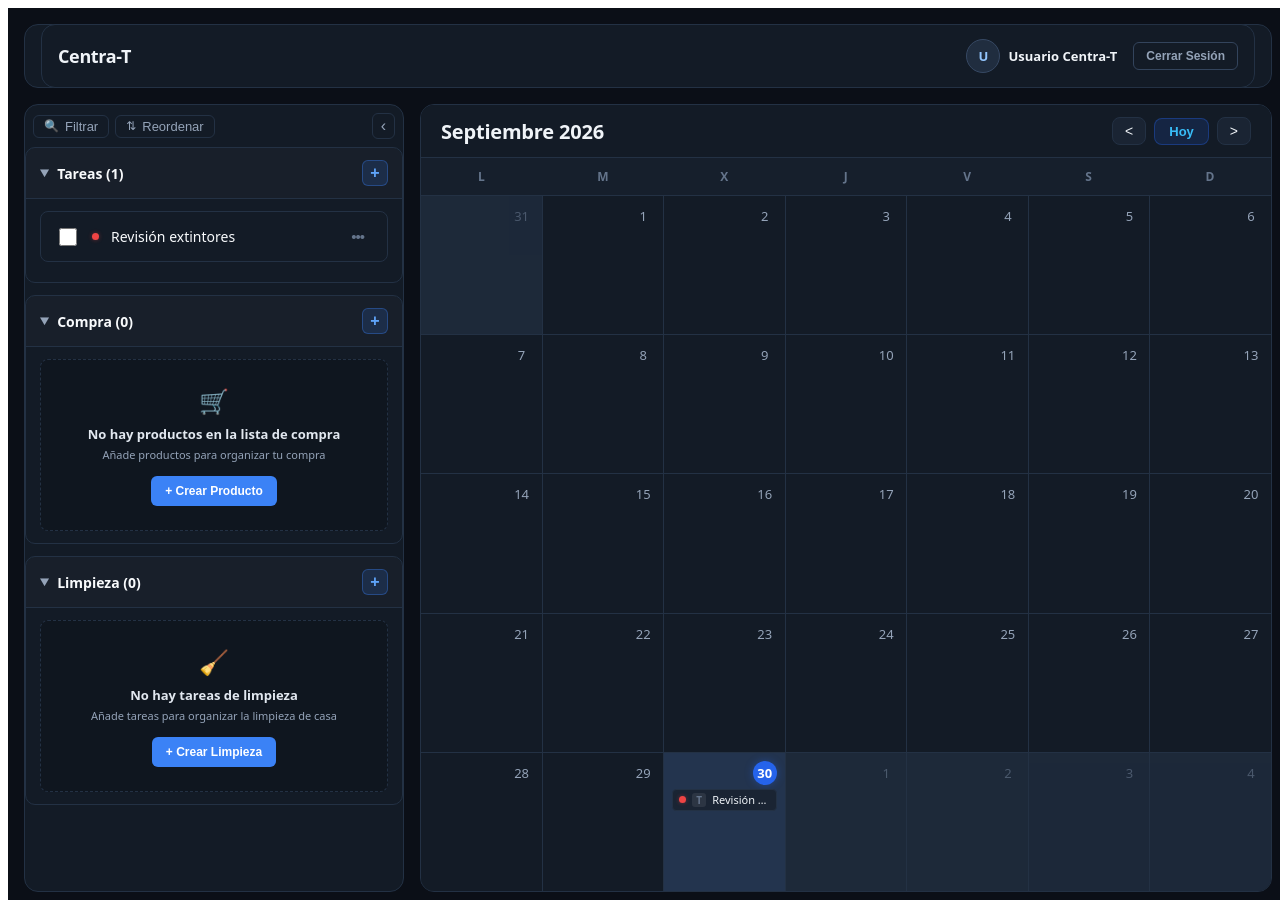
Test: App Root Integration - Filtrado Reactivo y Reordenación en Caliente (RV-A06) › Desasignación por Clic Derecho y Retorno al Hub (Caso Forense VV-007) › [VV-007]: Presionar Escape o hacer clic fuera cierra el menú sin desasignar la pastilla
Right-click the button with test id "calendar-pill-task-unschedule-1": x=724, y=800 [672,789,777,811]
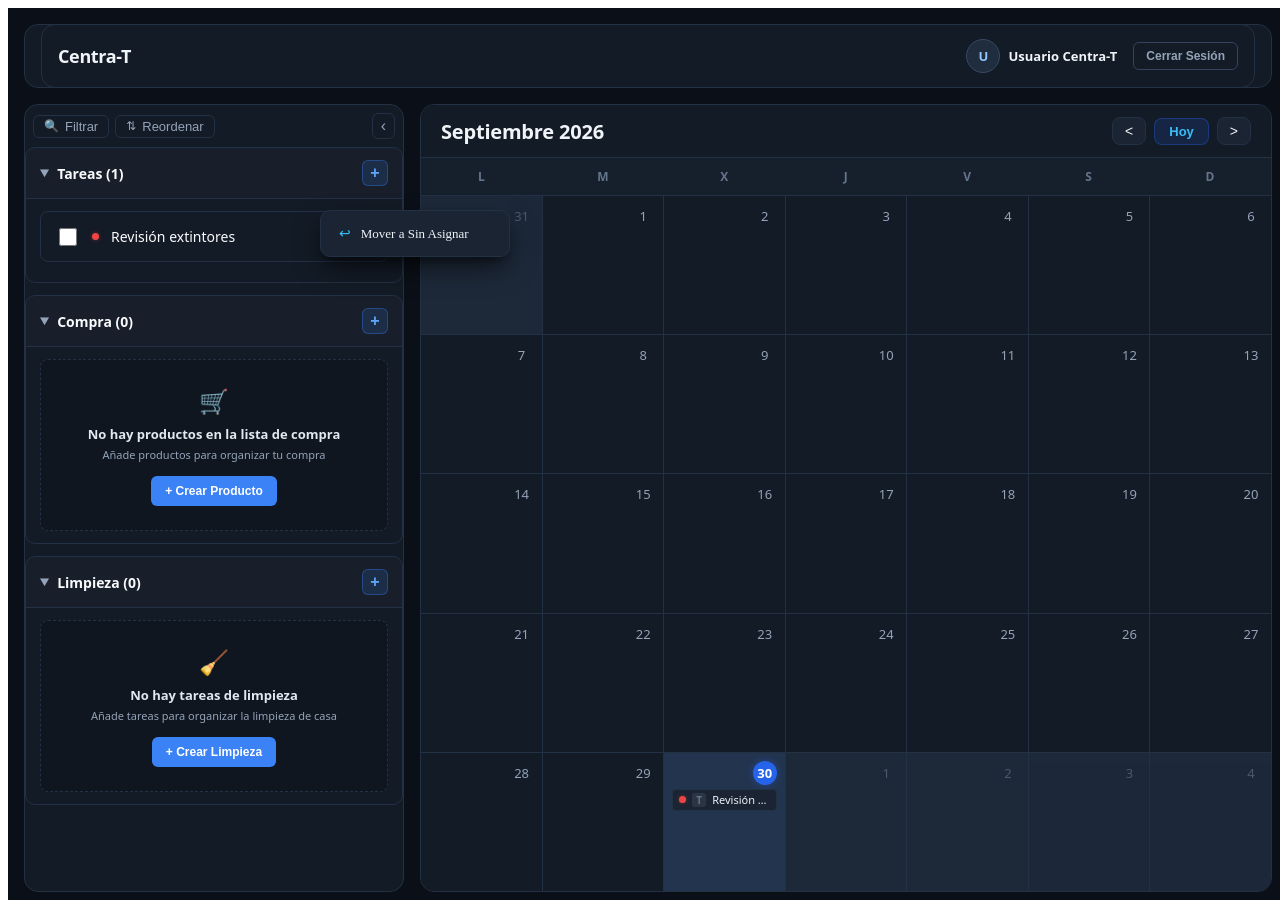
expect the menu with test id "calendar-item-context-menu" is shown: met, box [320,210,510,257]
// Presionar Escape
Press Escape
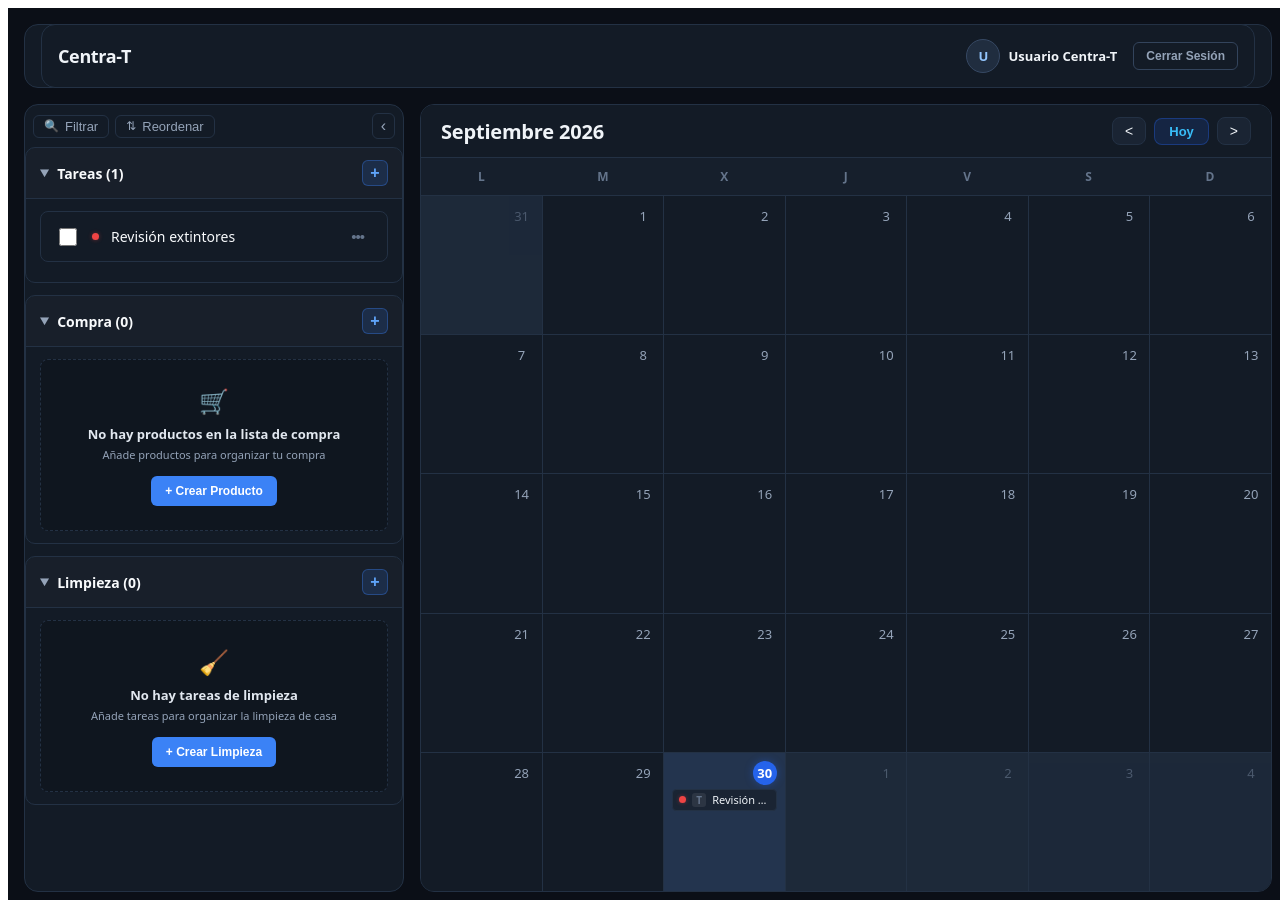
expect the button with test id "calendar-pill-task-unschedule-1" is shown: met, box [672,789,777,811]
expect the menu with test id "calendar-item-context-menu" is gone: met
